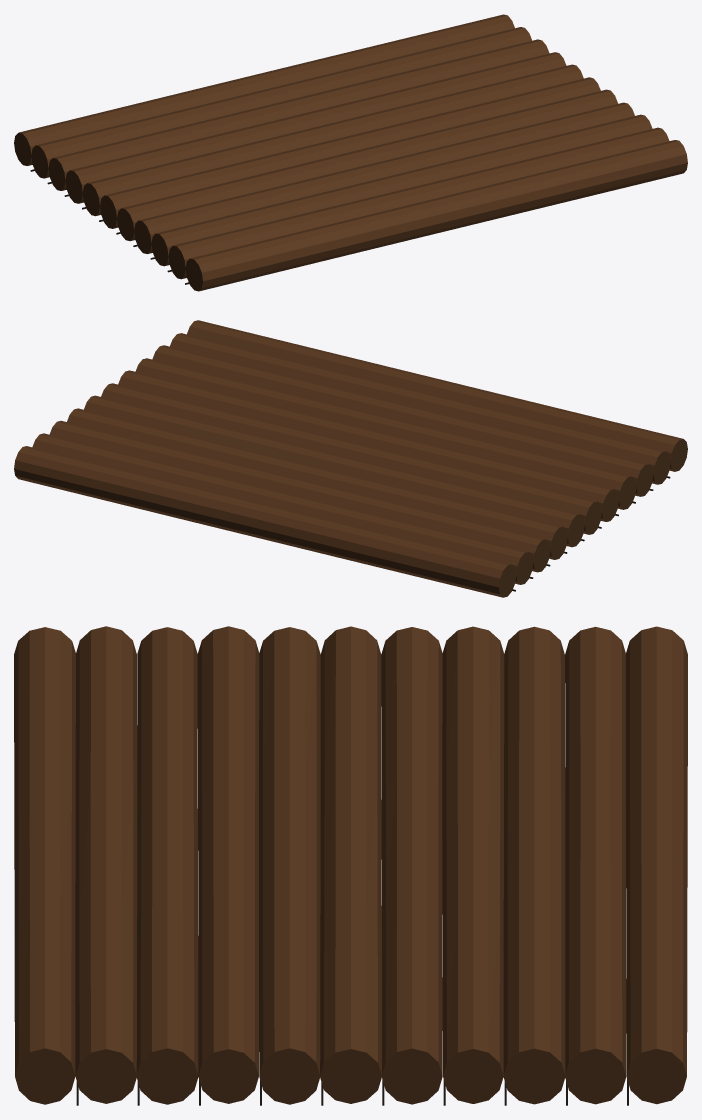
File: SM_Izba_WallSolid_1348_LOD0.obj
3 renders of one model, top to bottom at view 1: azimuth 30°, elevation 25°; view 2: azimuth 150°, elevation 25°; view 3: azimuth 270°, elevation 25°, orthographic. The views are drawn at different scales.
Visible parts, largest first — view 1: log_course_10, log_course_0, log_course_2, log_course_6, log_course_4, log_course_9, log_course_7, log_course_8, log_course_3, log_course_5, log_course_1, sawn_end; view 2: log_course_0, log_course_2, log_course_6, log_course_4, log_course_9, log_course_8, log_course_10, log_course_5, log_course_7, log_course_3, log_course_1, sawn_end; view 3: sawn_end, log_course_9, log_course_3, log_course_2, log_course_0, log_course_5, log_course_6, log_course_10, log_course_7, log_course_4, log_course_8, log_course_1.
Boxes of the visible parts, x1=… form: log_course_10: x1=190, y1=140, x2=687, y2=291; log_course_0: x1=19, y1=14, x2=514, y2=165; log_course_2: x1=53, y1=39, x2=549, y2=190; log_course_6: x1=122, y1=89, x2=617, y2=241; log_course_4: x1=87, y1=64, x2=583, y2=215; log_course_9: x1=173, y1=127, x2=669, y2=278; log_course_7: x1=139, y1=102, x2=634, y2=253; log_course_8: x1=156, y1=114, x2=652, y2=266; log_course_3: x1=70, y1=52, x2=566, y2=203; log_course_5: x1=105, y1=77, x2=600, y2=228; log_course_1: x1=36, y1=27, x2=531, y2=178; sawn_end: x1=14, y1=132, x2=202, y2=291; log_course_0: x1=14, y1=446, x2=511, y2=597; log_course_2: x1=49, y1=420, x2=545, y2=572; log_course_6: x1=118, y1=370, x2=614, y2=521; log_course_4: x1=84, y1=395, x2=580, y2=546; log_course_9: x1=170, y1=333, x2=665, y2=484; log_course_8: x1=152, y1=345, x2=648, y2=496; log_course_10: x1=187, y1=320, x2=682, y2=471; log_course_5: x1=101, y1=383, x2=596, y2=534; log_course_7: x1=135, y1=358, x2=631, y2=509; log_course_3: x1=67, y1=408, x2=562, y2=559; log_course_1: x1=32, y1=433, x2=528, y2=584; sawn_end: x1=499, y1=439, x2=687, y2=597; sawn_end: x1=15, y1=1048, x2=686, y2=1104; log_course_9: x1=75, y1=626, x2=137, y2=1075; log_course_3: x1=442, y1=626, x2=504, y2=1075; log_course_2: x1=503, y1=626, x2=565, y2=1074; log_course_0: x1=626, y1=626, x2=687, y2=1075; log_course_5: x1=320, y1=626, x2=381, y2=1074; log_course_6: x1=259, y1=627, x2=320, y2=1075; log_course_10: x1=14, y1=627, x2=75, y2=1075; log_course_7: x1=197, y1=626, x2=259, y2=1075; log_course_4: x1=381, y1=627, x2=442, y2=1075; log_course_8: x1=136, y1=627, x2=198, y2=1074; log_course_1: x1=565, y1=626, x2=626, y2=1075.
Bounding box in the file's own units: 4 × 0.2588 × 2.7.
